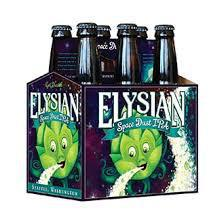beer: (26, 22, 198, 201)
